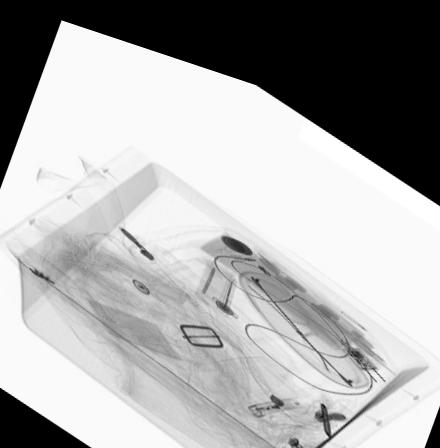Lighter: (244, 378, 309, 401)
